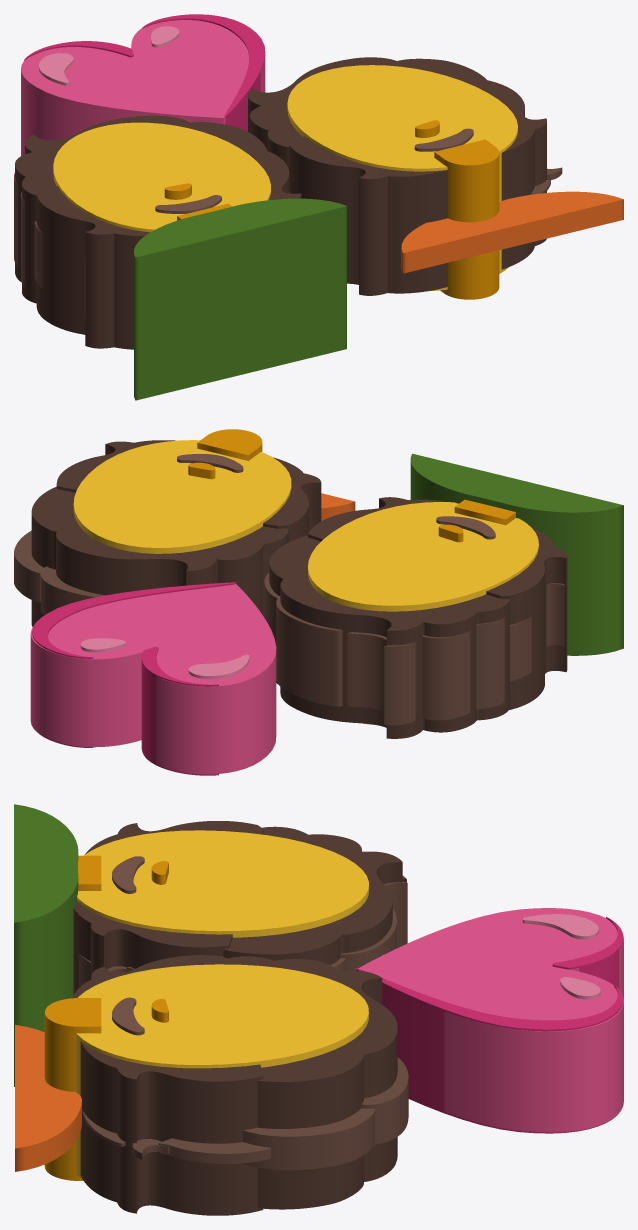
File: emoji_u1f491.glb
3 renders of one model, top to bottom at view 1: azimuth 30°, elevation 25°; view 2: azimuth 150°, elevation 25°; view 3: azimuth 270°, elevation 25°, orthographic. The views are drawn at different scales.
Visible parts, largest first — view 1: emoji_u1f491; view 2: emoji_u1f491; view 3: emoji_u1f491.
Part boxes in pixels (x1,y1,x2,y2): emoji_u1f491: [14, 14, 623, 400]; emoji_u1f491: [14, 429, 623, 775]; emoji_u1f491: [14, 804, 623, 1215].
Size of the model in its own units: 0.0351 by 0.0098 by 0.033.
